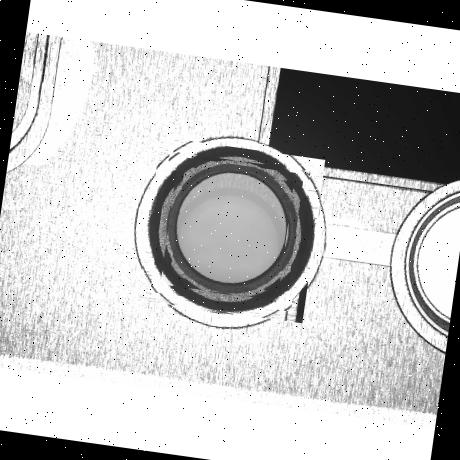Hole: (138, 136, 324, 324)
Hole2: (150, 151, 310, 311)
Hole3: (158, 156, 304, 302)
Hole4: (168, 166, 293, 292)
